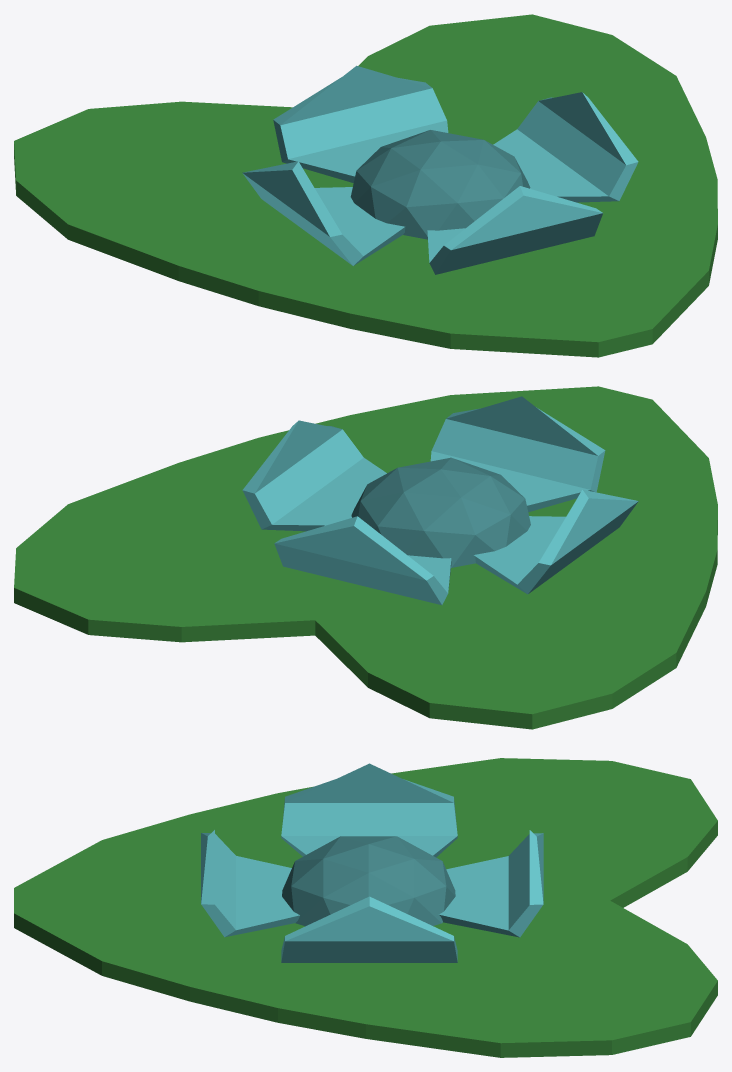
File: Flower_6_Cyan.fbx
3 renders of one model, top to bottom at view 1: azimuth 30°, elevation 25°; view 2: azimuth 150°, elevation 25°; view 3: azimuth 270°, elevation 25°, orthographic. The views are drawn at different scales.
Visible parts, largest first — view 1: Flower_6_Cyan_Part_1, Flower_6_Cyan_Part_2, Flower_6_Cyan_Part_3; view 2: Flower_6_Cyan_Part_1, Flower_6_Cyan_Part_2, Flower_6_Cyan_Part_3; view 3: Flower_6_Cyan_Part_1, Flower_6_Cyan_Part_2, Flower_6_Cyan_Part_3.
Boxes of the visible parts, <box> form: Flower_6_Cyan_Part_1: <box>14,14,717,357</box>; Flower_6_Cyan_Part_2: <box>242,65,638,274</box>; Flower_6_Cyan_Part_3: <box>350,130,530,239</box>; Flower_6_Cyan_Part_1: <box>14,386,717,729</box>; Flower_6_Cyan_Part_2: <box>242,396,638,605</box>; Flower_6_Cyan_Part_3: <box>351,457,530,567</box>; Flower_6_Cyan_Part_1: <box>14,758,717,1057</box>; Flower_6_Cyan_Part_2: <box>201,763,543,962</box>; Flower_6_Cyan_Part_3: <box>282,836,455,926</box>.
Size of the model in its own units: 76.67 by 10.7 by 80.
